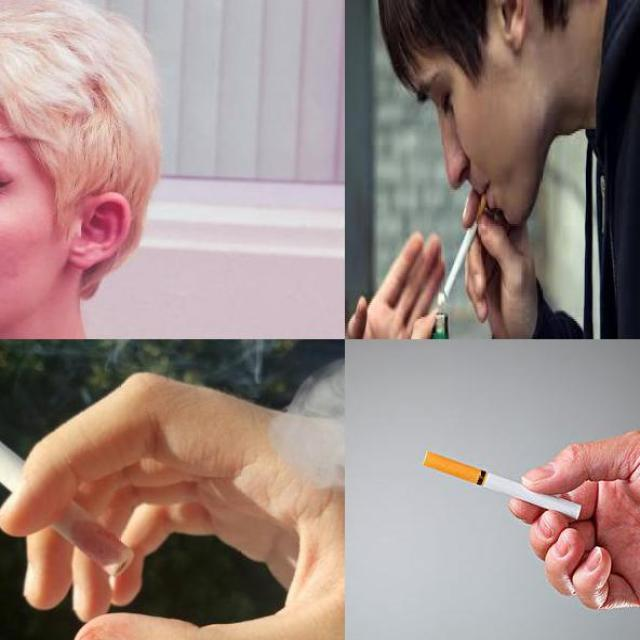smoking: (0, 382, 138, 580), (421, 449, 584, 521), (444, 192, 487, 298)
